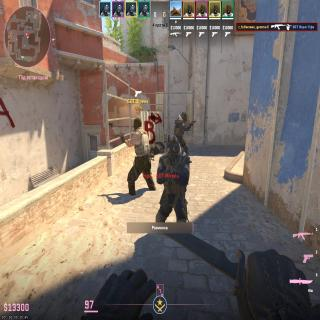CT-Body: (157, 134, 190, 223), (173, 110, 189, 156)
CT-Head: (166, 135, 178, 159), (181, 111, 188, 122)
T-Body: (126, 117, 152, 190)
T-Head: (133, 117, 142, 130)
